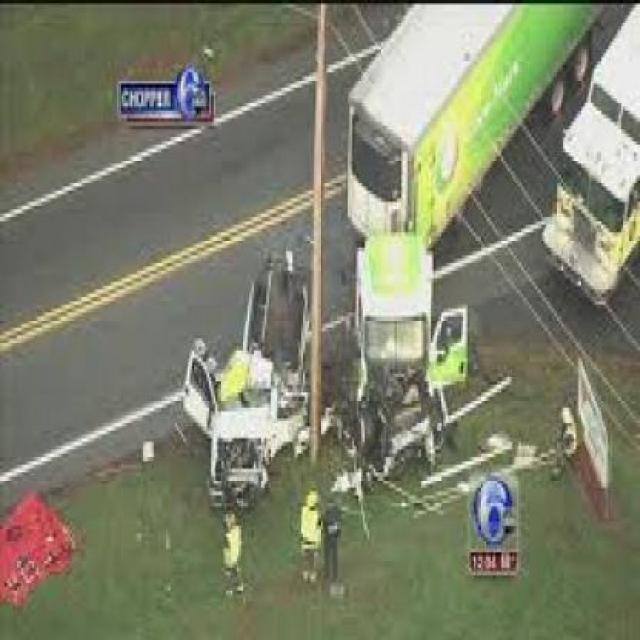accident: (165, 205, 347, 552), (358, 222, 510, 524)
